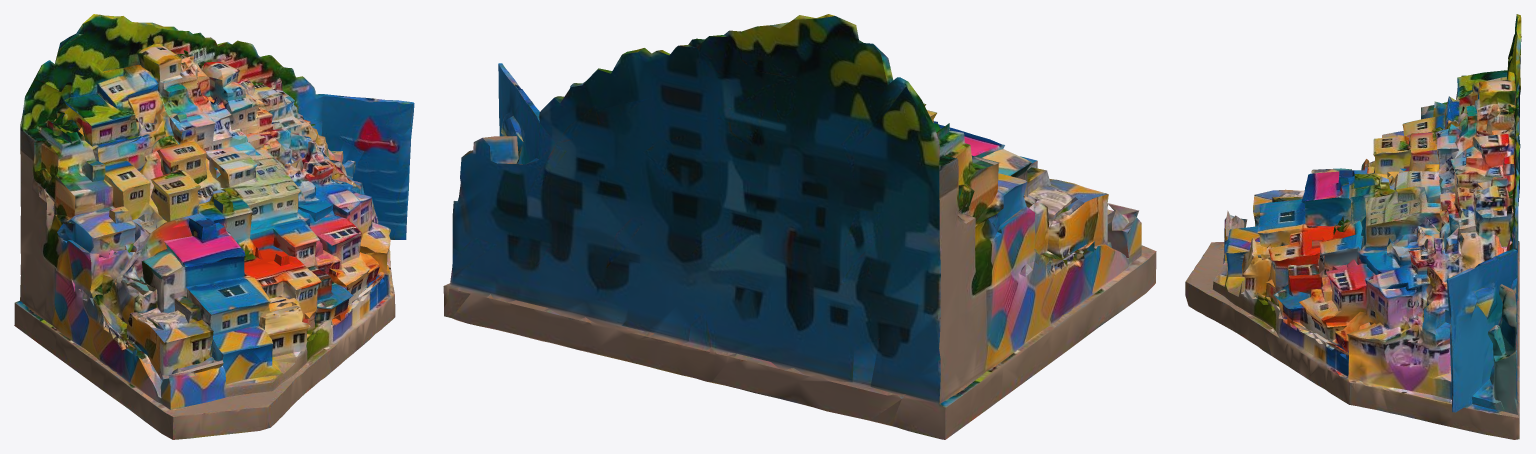
Rendered from gamcheon-village.glb.
3 views of the same model, side by side, from view 1: azimuth 30°, elevation 25°; view 2: azimuth 150°, elevation 25°; view 3: azimuth 270°, elevation 25° (orthographic). The views are drawn at different scales.
Parts seen in each view (by area): view 1: logan-textured.obj; view 2: logan-textured.obj; view 3: logan-textured.obj.
Boxes of the visible parts, left/top/right/bottom form: logan-textured.obj: left=14, top=14, right=414, bottom=439; logan-textured.obj: left=443, top=14, right=1156, bottom=439; logan-textured.obj: left=1185, top=14, right=1521, bottom=439.
Size of the model in its own units: 1 by 0.7578 by 0.8036.
1 material, 1 textured.
